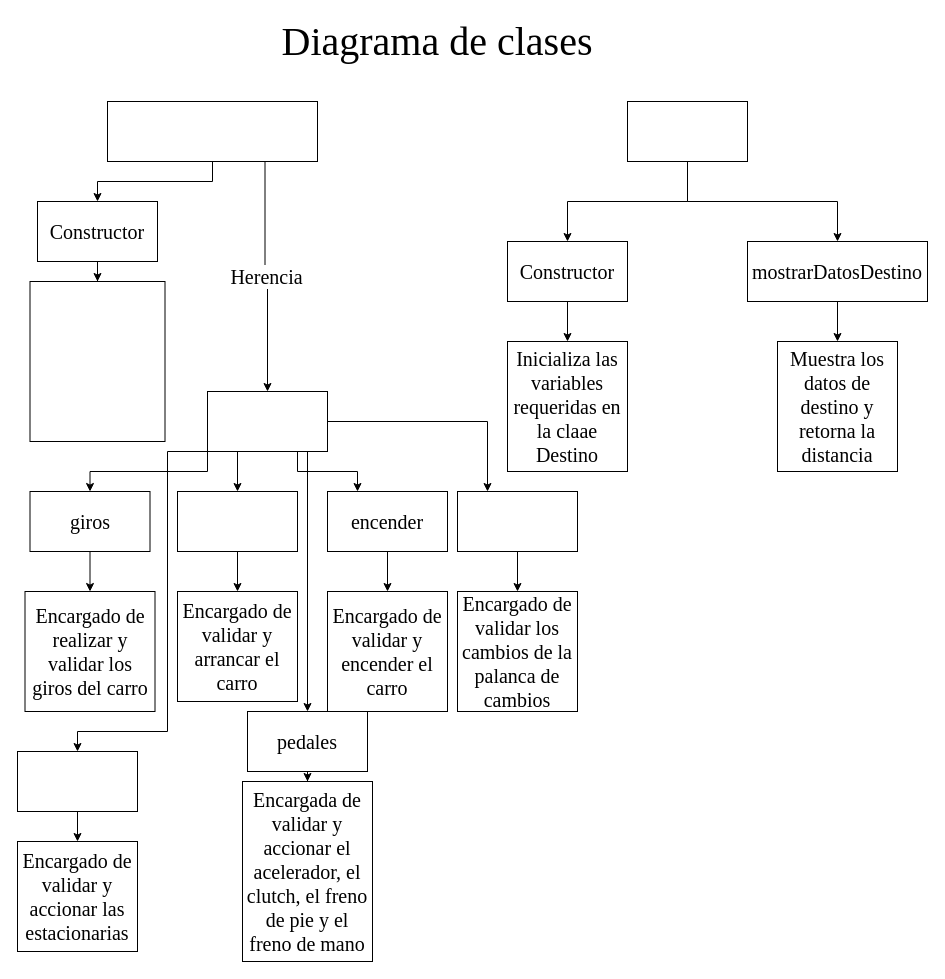
Some shapes in this 945 by 979 pixel diagram are drawn without their labels. The shapes that lost their labels are listed below. From the top down, each one's centre as x and y in pixels, then its label:
At pixel 212 131: "InteraccionesCompletas".
At pixel 687 131: "Destino".
At pixel 97 361: "Inicializa todas las variables requeridas en la clase destino".
At pixel 267 421: "Acciones".
At pixel 237 521: "arrancar".
At pixel 517 521: "cambios".
At pixel 77 781: "estacionarias".
